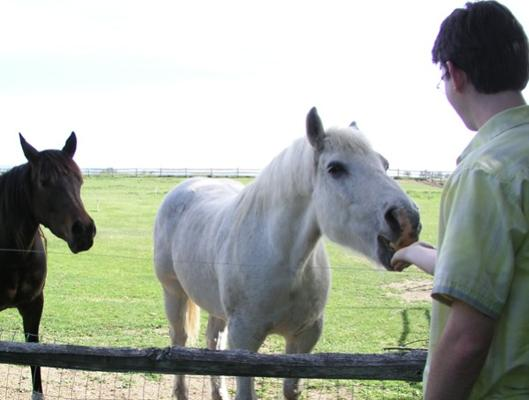person: (389, 2, 527, 400)
